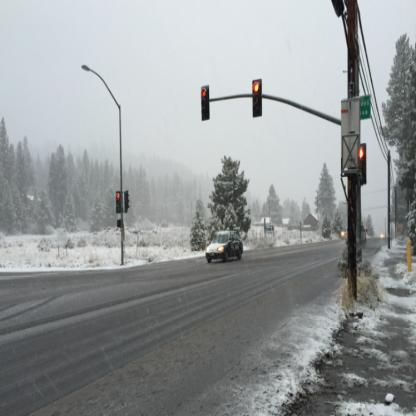red: (252, 78, 262, 118), (359, 142, 367, 185), (201, 86, 210, 121), (116, 191, 123, 214)
